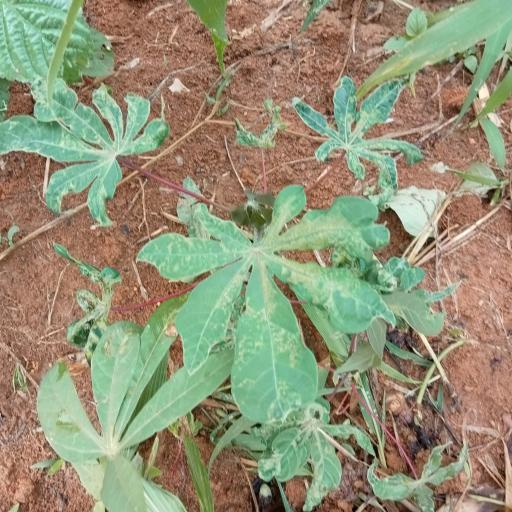Cassava_Mosaic: (142, 195, 432, 415), (6, 76, 173, 220), (41, 321, 143, 512), (295, 78, 411, 186)
